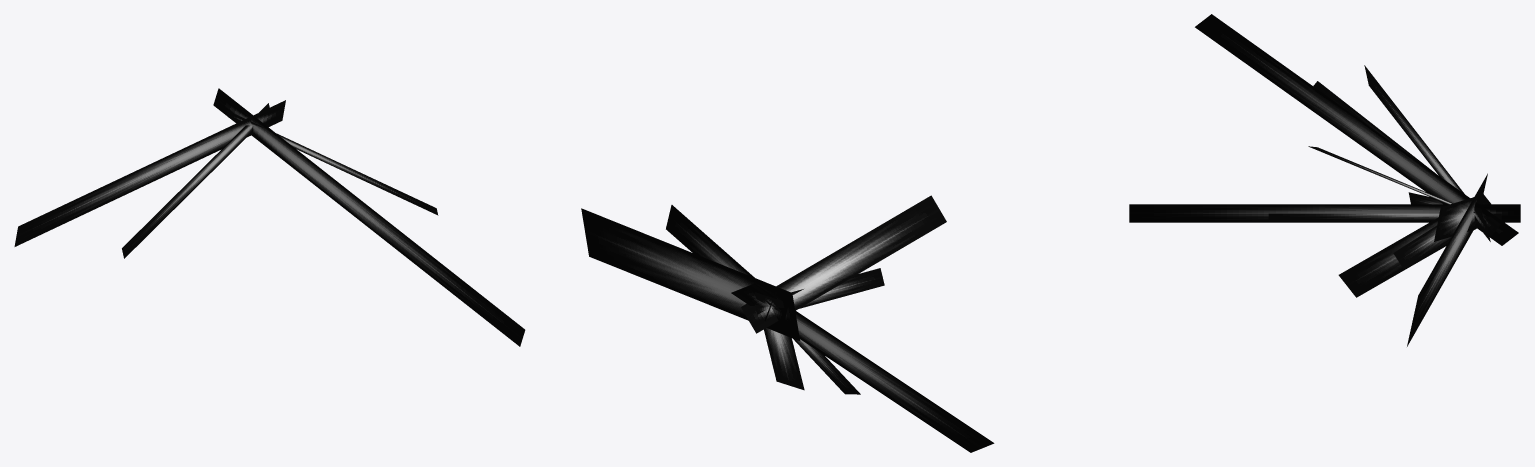
Rendered from nightwater01.glb.
3 renders of one model, left to right at view 1: azimuth 30°, elevation 25°; view 2: azimuth 150°, elevation 25°; view 3: azimuth 270°, elevation 25°, orthographic. The views are drawn at different scales.
Visible parts, largest first — view 1: model_nightwater01; view 2: model_nightwater01; view 3: model_nightwater01.
Part boxes in pixels (bbox=[...]): model_nightwater01: bbox=[14, 88, 525, 346]; model_nightwater01: bbox=[581, 195, 994, 452]; model_nightwater01: bbox=[1129, 14, 1520, 346].
Bounding box in the file's own units: 4.45 × 3.48 × 2.97.
1 material, 1 textured.
